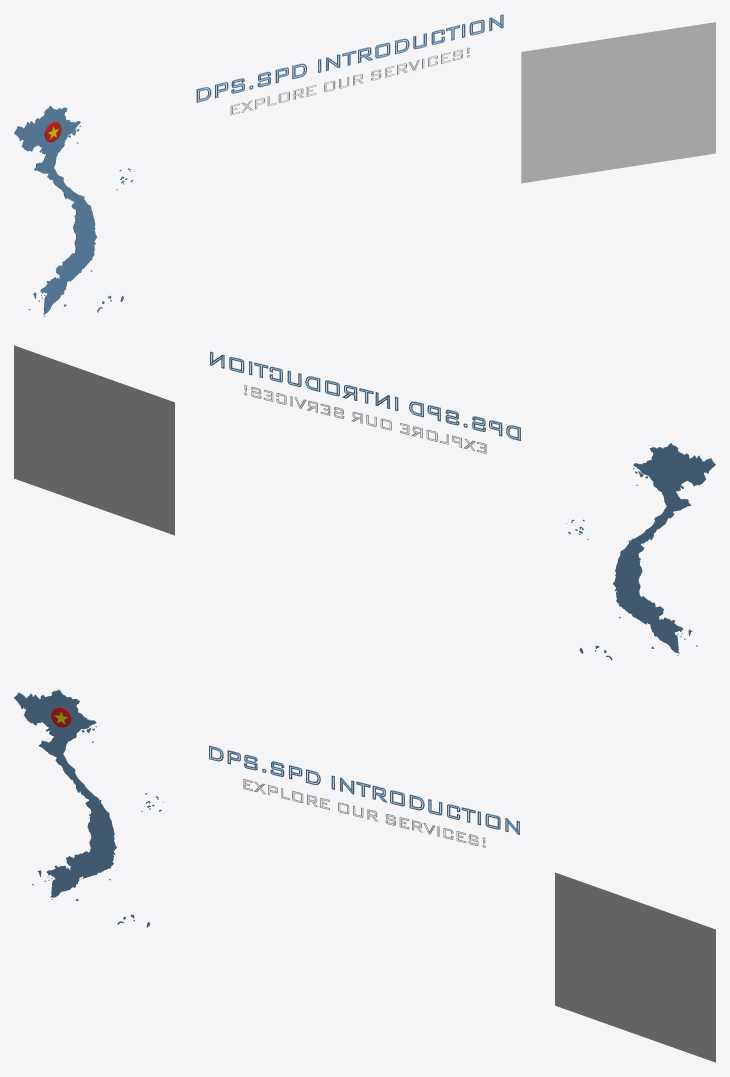
Rendered from Screen 01.fbx.
3 views of the same model, one above another, from view 1: azimuth 30°, elevation 25°; view 2: azimuth 150°, elevation 25°; view 3: azimuth 330°, elevation 25° (orthographic).
Parts seen in each view (by area): view 1: Plane002, Shape1, Text007, Text006; view 2: Plane002, Shape1, Text007, Text006; view 3: Plane002, Shape1, Text007, Text006.
Boxes of the visible parts, x1,y1,x2,y2 form: Plane002: [521, 22, 715, 183]; Shape1: [14, 106, 134, 316]; Text007: [196, 14, 503, 102]; Text006: [230, 47, 469, 115]; Plane002: [14, 345, 174, 535]; Shape1: [566, 443, 715, 660]; Text007: [210, 351, 520, 440]; Text006: [244, 384, 486, 453]; Plane002: [555, 872, 715, 1062]; Shape1: [14, 689, 163, 927]; Text007: [209, 745, 519, 834]; Text006: [243, 778, 485, 847].
Size of the model in its own units: 3885 by 1190 by 178.
